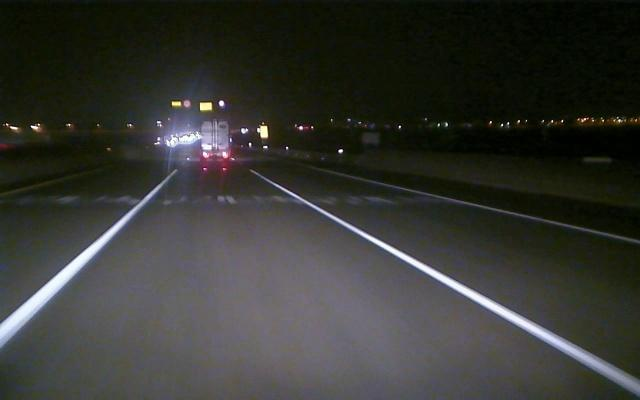lane: (255, 173, 638, 391), (3, 183, 160, 346), (342, 173, 640, 245), (0, 164, 113, 197)
